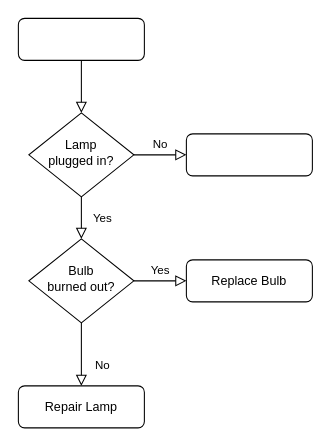
Some shapes in this 331 by 446 pixel diagram are drawn without their labels. The centre of each missing label's shape, as x and y in pixels:
Enter a sales order: (80,38)
Plug in lamp: (248,154)
